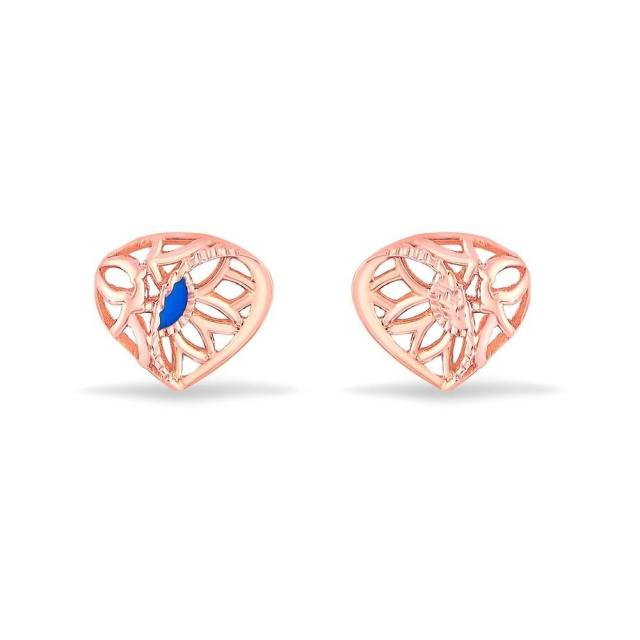missing gem: (435, 272, 469, 330)
